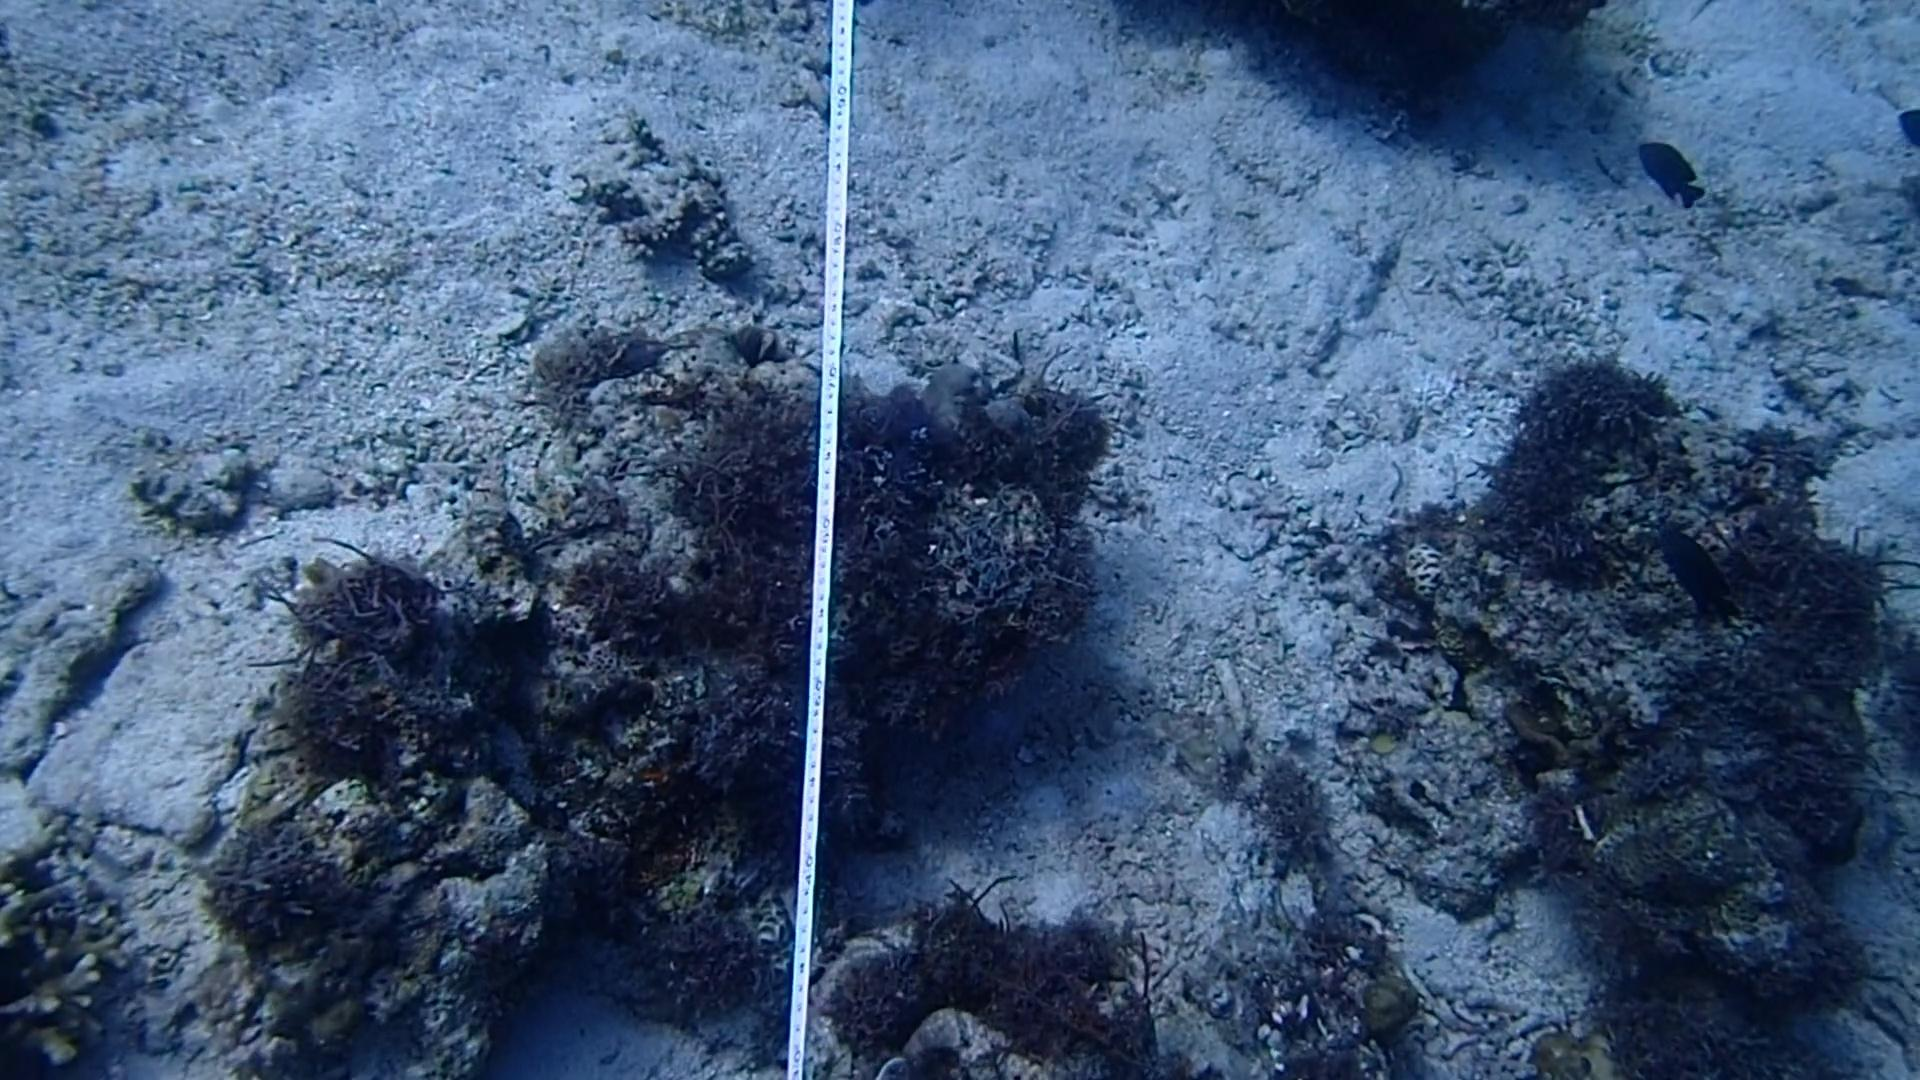Dark Fish: (1648, 518, 1739, 625), (1623, 129, 1709, 220)
